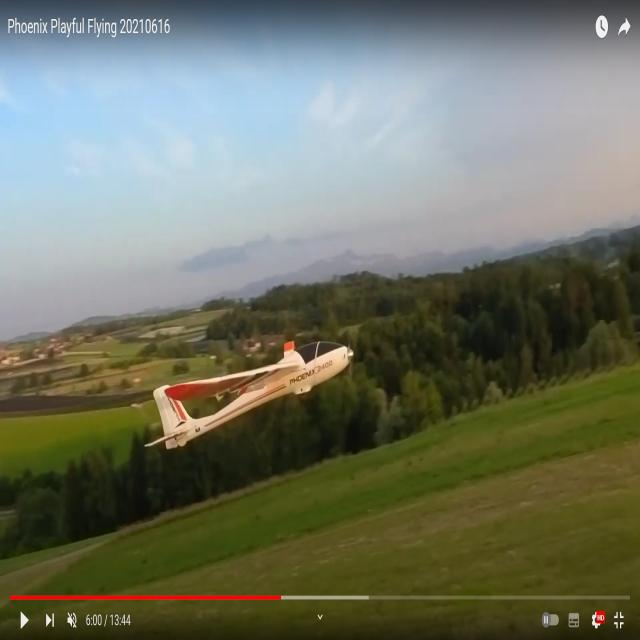iha: (151, 335, 345, 464)
